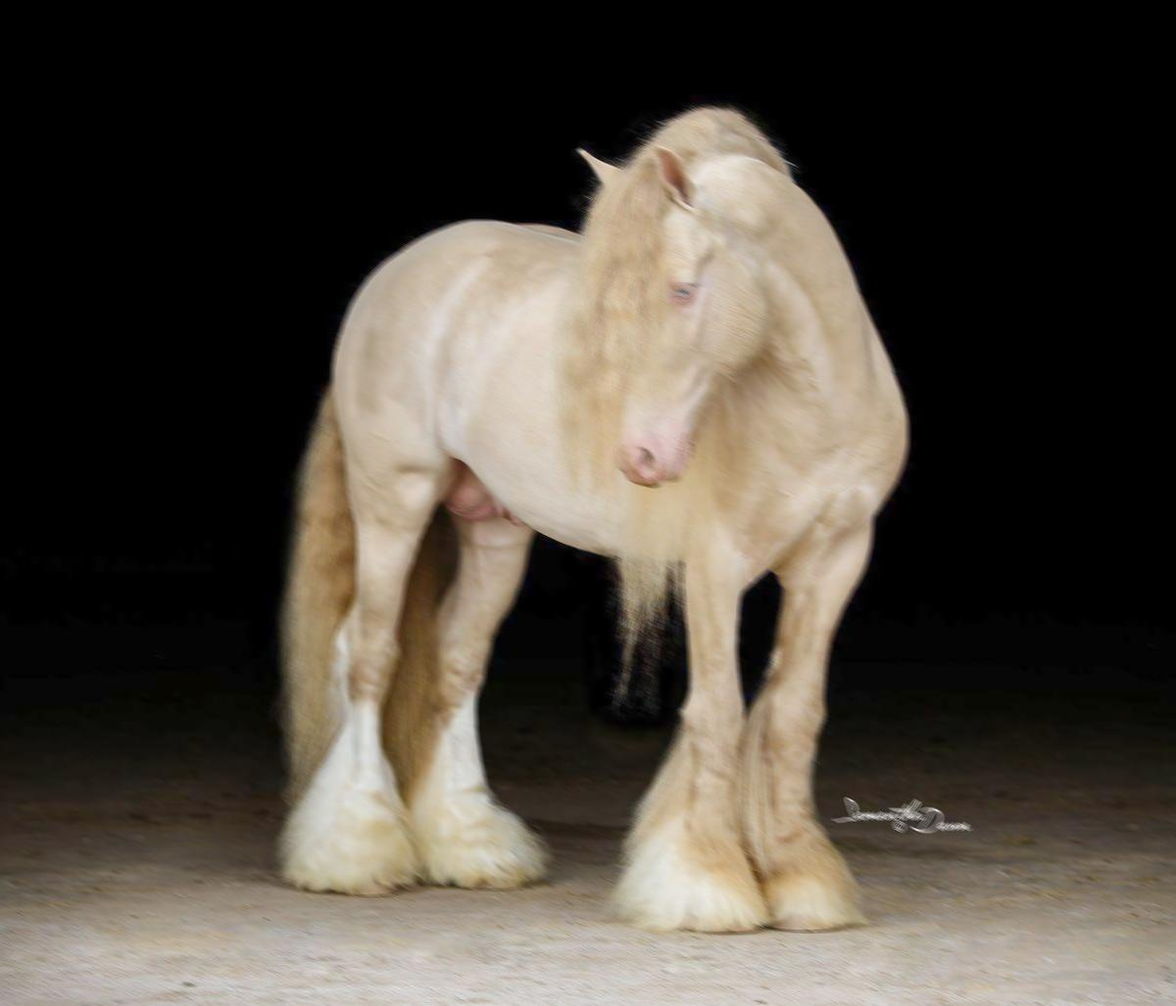horse: (273, 103, 909, 934)
